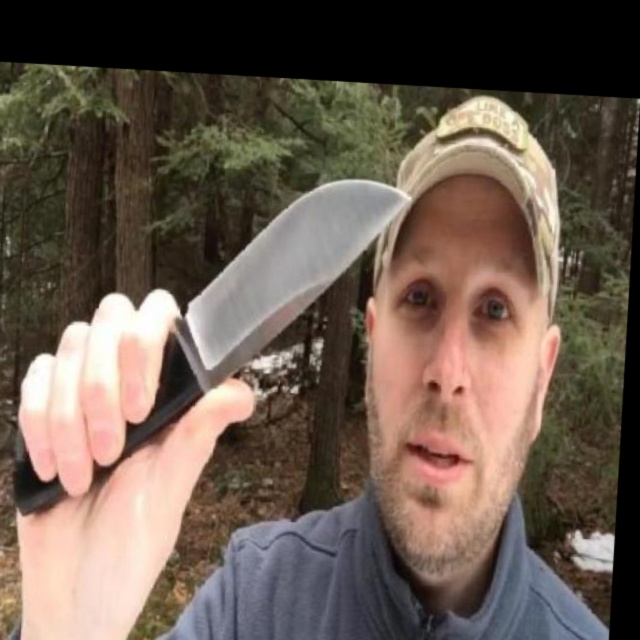Sharp-Object: (11, 162, 410, 537)
